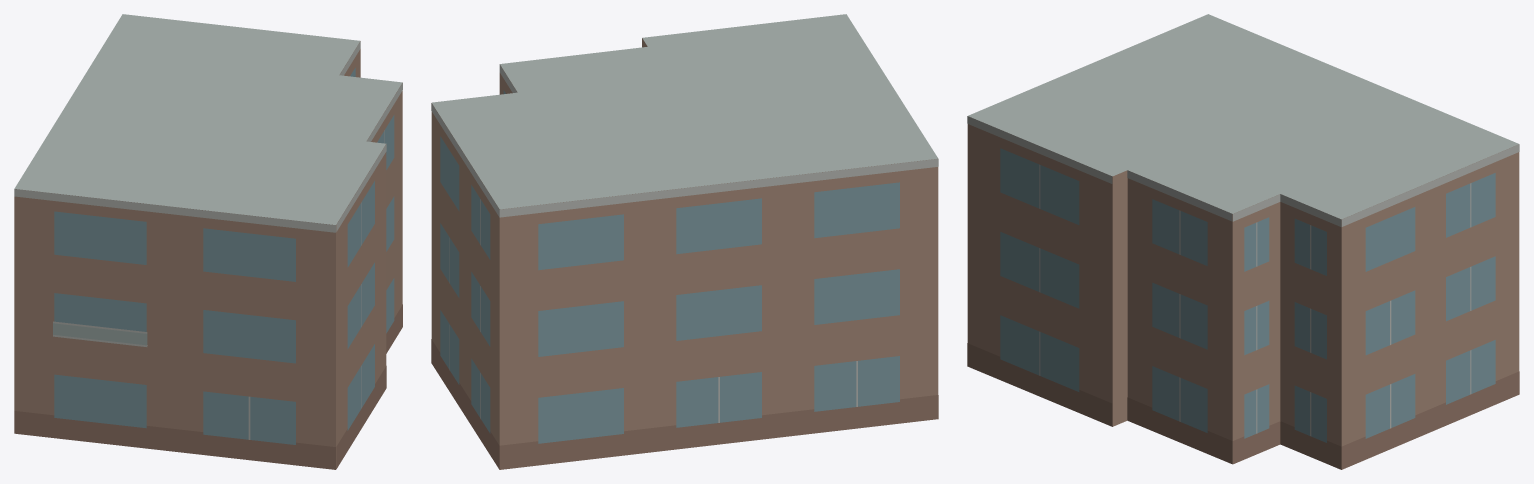
The model's file is survey-upis-32913150.glb.
3 views of the same model, side by side, from view 1: azimuth 30°, elevation 25°; view 2: azimuth 150°, elevation 25°; view 3: azimuth 270°, elevation 25° (orthographic). The views are drawn at different scales.
Parts seen in each view (by area): view 1: survey-upis-32913150.tmp; view 2: survey-upis-32913150.tmp; view 3: survey-upis-32913150.tmp.
Boxes of the visible parts, left/top/right/bottom form: survey-upis-32913150.tmp: left=14, top=14, right=402, bottom=469; survey-upis-32913150.tmp: left=431, top=14, right=938, bottom=469; survey-upis-32913150.tmp: left=967, top=14, right=1519, bottom=469.
Size of the model in its own units: 13.73 by 7.8 by 15.59.
